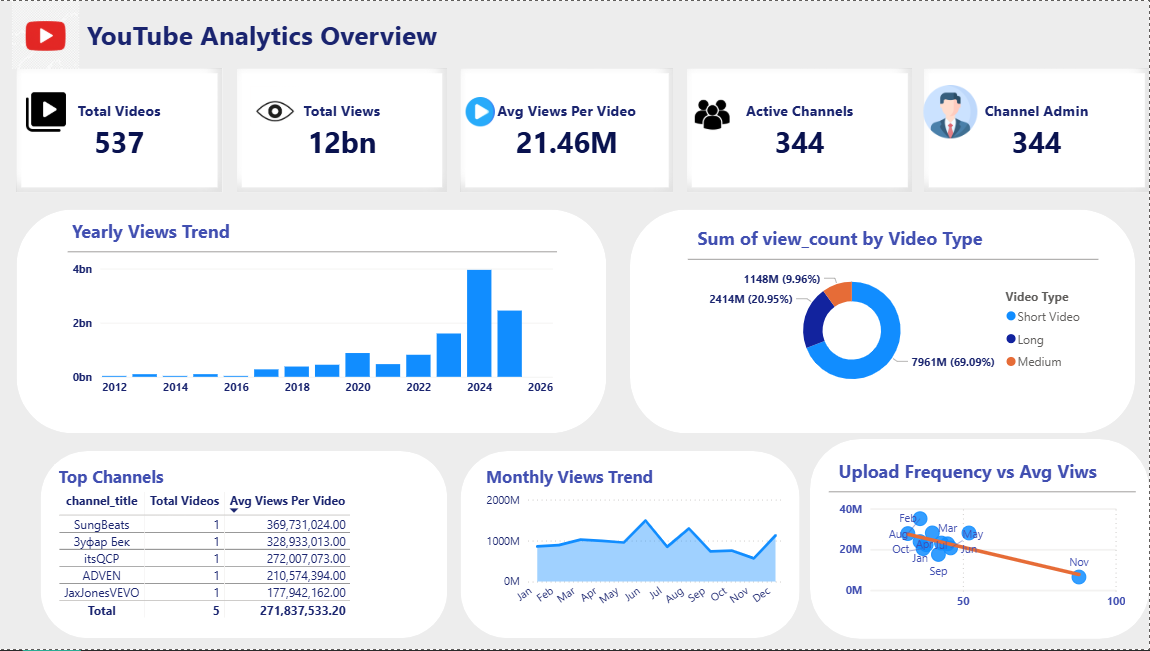

This screenshot's page, from the dashboard's own definition file:
{"tool":"powerbi","page":{"name":"Home","canvas":[1280,720],"ordinal":0},"visuals":[{"type":"shape","box":[0,0,1279.5,75.1],"z":0},{"type":"cardVisual","fields":{"Data":["public youtube.Total Videos"]},"box":[21.9,75.1,228.4,137.6],"z":1000},{"type":"cardVisual","fields":{"Data":["public youtube.TOtal Views"]},"box":[267.5,75.1,233.1,137.6],"z":2000},{"type":"cardVisual","fields":{"Data":["public youtube.Avg Views Per Video"]},"box":[514.6,75.1,236.2,137.6],"z":3000},{"type":"cardVisual","fields":{"Data":["public youtube.Active Channels"]},"box":[766.4,75.1,250.3,137.6],"z":4000},{"type":"cardVisual","fields":{"Data":["public youtube.Channel Admin"]},"box":[1029.2,75.1,250.3,137.6],"z":5000},{"type":"shape","box":[703.9,231.5,561.5,248.7],"z":6000},{"type":"shape","box":[21.9,231.5,655.4,248.7],"z":7000},{"type":"columnChart","title":"Yearly Views Trend","fields":{"Category":["public youtube.Year"],"Y":["public youtube.view_count"]},"box":[78.2,242.4,544.3,204.9],"z":8000},{"type":"donutChart","fields":{"Category":["public youtube.Video Type"],"Y":["public youtube.view_count"]},"box":[766.4,244,458.3,203.3],"z":9000},{"type":"shape","box":[48.5,500.5,452,208],"z":10000},{"type":"tableEx","title":"Top Channels","fields":{"Values":["public youtube.channel_title","public youtube.Total Videos","public youtube.Avg Views Per Video"]},"box":[64.1,514.6,403.6,176.7],"z":11000},{"type":"shape","box":[514.6,500.5,377,208],"z":12000},{"type":"areaChart","title":"Monthly Views Trend","fields":{"Y":["public youtube.Total Views"],"Category":["public youtube.Months Name"]},"box":[538.1,514.6,341,176.7],"z":13000},{"type":"shape","box":[902.5,486.5,377,222.1],"z":14000},{"type":"scatterChart","title":"Upload Frequency vs Avg Viws","fields":{"Category":["public youtube.Months Name"],"X":["public youtube.Uploads Per Month"],"Y":["public youtube.Avg Views Per Video"]},"box":[922.9,502.1,342.5,189.3],"z":15000},{"type":"image","box":[0,0,107.9,75.1],"z":15001},{"type":"image","box":[269,95.4,81.3,43.8],"z":15002},{"type":"image","box":[500.5,106.4,73.5,32.8],"z":15003},{"type":"image","box":[750.8,106.4,89.2,39.1],"z":15004},{"type":"image","box":[1023,93.8,72,59.4],"z":15005},{"type":"image","box":[29.7,100.1,48.5,46.9],"z":15006}]}

Visuals, with their boxes in screenshot pixels (x1, y1, x2, y2), scaled from the page's 1280x720 canvas onto the 1150x651 screenshot:
shape: <bbox>0, 0, 1149, 68</bbox>
cardVisual - public youtube.Total Videos: <bbox>20, 68, 225, 192</bbox>
cardVisual - public youtube.TOtal Views: <bbox>240, 68, 450, 192</bbox>
cardVisual - public youtube.Avg Views Per Video: <bbox>462, 68, 675, 192</bbox>
cardVisual - public youtube.Active Channels: <bbox>689, 68, 913, 192</bbox>
cardVisual - public youtube.Channel Admin: <bbox>925, 68, 1149, 192</bbox>
shape: <bbox>632, 209, 1137, 434</bbox>
shape: <bbox>20, 209, 609, 434</bbox>
"Yearly Views Trend" columnChart: <bbox>70, 219, 559, 404</bbox>
donutChart - public youtube.Video Type x public youtube.view_count: <bbox>689, 221, 1100, 404</bbox>
shape: <bbox>44, 453, 450, 641</bbox>
"Top Channels" tableEx: <bbox>58, 465, 420, 625</bbox>
shape: <bbox>462, 453, 801, 641</bbox>
"Monthly Views Trend" areaChart: <bbox>483, 465, 790, 625</bbox>
shape: <bbox>811, 440, 1149, 641</bbox>
"Upload Frequency vs Avg Viws" scatterChart: <bbox>829, 454, 1137, 625</bbox>
image: <bbox>0, 0, 97, 68</bbox>
image: <bbox>242, 86, 315, 126</bbox>
image: <bbox>450, 96, 516, 126</bbox>
image: <bbox>675, 96, 755, 132</bbox>
image: <bbox>919, 85, 984, 139</bbox>
image: <bbox>27, 91, 70, 133</bbox>
